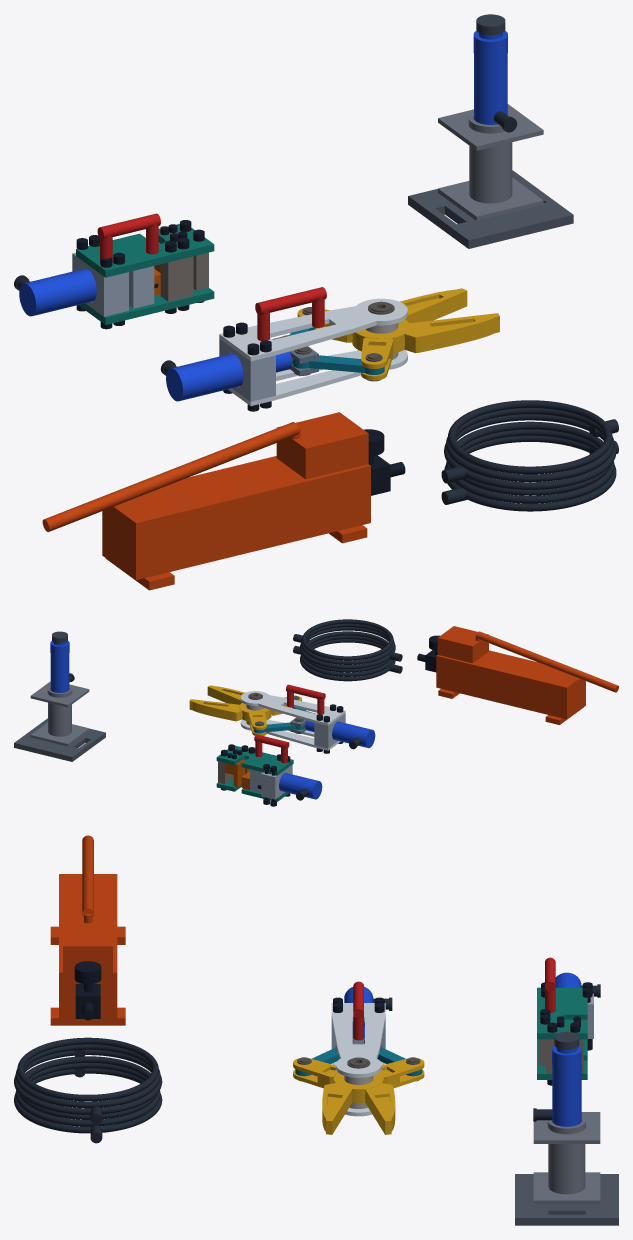
3 renders of one model, top to bottom at view 1: azimuth 30°, elevation 25°; view 2: azimuth 150°, elevation 25°; view 3: azimuth 270°, elevation 25°, orthographic. The views are drawn at different scales.
Parts seen in each view (by area): view 1: Two-speed hand pump, Hoses with quick couplers, Single-acting cylinder 15 t (×3), Riser block, Spreader frame plate (×2), Jaw arm (×2), Ram base plate, Cutter plate (×2), Collar adapter (×2), Carry handle (×2), Cap screws, M16 and M12, Gauge adapter and pressure gauge (+3 smaller); view 2: Two-speed hand pump, Hoses with quick couplers, Single-acting cylinder 15 t (×3), Riser block, Spreader frame plate (×2), Jaw arm (×2), Ram base plate, Cutter plate (×2), Collar adapter (×2), Carry handle (×2), Cap screws, M16 and M12, Gauge adapter and pressure gauge (+1 smaller); view 3: Hoses with quick couplers, Two-speed hand pump, Riser block, Jaw arm (×2), Ram base plate, Spreader frame plate, Single-acting cylinder 15 t, Cutter plate, Gauge adapter and pressure gauge, Carry handle (×2), Cap screws, M16 and M12.
Boxes of the visible parts, x1=… form: Two-speed hand pump: x1=42, y1=412, x2=370, y2=590; Hoses with quick couplers: x1=441, y1=400, x2=618, y2=511; Single-acting cylinder 15 t (×3): x1=19, y1=30, x2=507, y2=401; Riser block: x1=438, y1=104, x2=543, y2=220; Spreader frame plate (×2): x1=219, y1=298, x2=407, y2=405; Jaw arm (×2): x1=297, y1=288, x2=499, y2=380; Ram base plate: x1=408, y1=170, x2=573, y2=248; Cutter plate (×2): x1=76, y1=224, x2=214, y2=324; Collar adapter (×2): x1=72, y1=252, x2=275, y2=401; Carry handle (×2): x1=97, y1=213, x2=326, y2=340; Cap screws, M16 and M12: x1=76, y1=220, x2=204, y2=329; Gauge adapter and pressure gauge: x1=364, y1=429, x2=405, y2=495; Two-speed hand pump: x1=436, y1=626, x2=618, y2=724; Hoses with quick couplers: x1=293, y1=619, x2=402, y2=681; Single-acting cylinder 15 t (×3): x1=50, y1=641, x2=375, y2=799; Riser block: x1=30, y1=681, x2=89, y2=746; Spreader frame plate (×2): x1=240, y1=691, x2=345, y2=750; Jaw arm (×2): x1=189, y1=685, x2=301, y2=735; Ram base plate: x1=14, y1=718, x2=105, y2=761; Cutter plate (×2): x1=216, y1=745, x2=293, y2=801; Collar adapter (×2): x1=261, y1=713, x2=345, y2=799; Carry handle (×2): x1=254, y1=684, x2=325, y2=763; Cap screws, M16 and M12: x1=221, y1=744, x2=290, y2=806; Gauge adapter and pressure gauge: x1=417, y1=635, x2=439, y2=672; Hoses with quick couplers: x1=14, y1=1037, x2=162, y2=1143; Two-speed hand pump: x1=50, y1=835, x2=125, y2=1025; Riser block: x1=533, y1=1112, x2=600, y2=1204; Jaw arm (×2): x1=293, y1=1058, x2=424, y2=1134; Ram base plate: x1=515, y1=1174, x2=618, y2=1225; Spreader frame plate: x1=331, y1=1003, x2=385, y2=1077; Single-acting cylinder 15 t: x1=552, y1=1046, x2=581, y2=1126; Cutter plate: x1=537, y1=987, x2=587, y2=1039; Gauge adapter and pressure gauge: x1=74, y1=961, x2=101, y2=1020; Carry handle (×2): x1=353, y1=957, x2=555, y2=1040; Cap screws, M16 and M12: x1=540, y1=982, x2=592, y2=1085.
Bounding box in the file's own units: 1.85 × 0.457 × 1.45.
